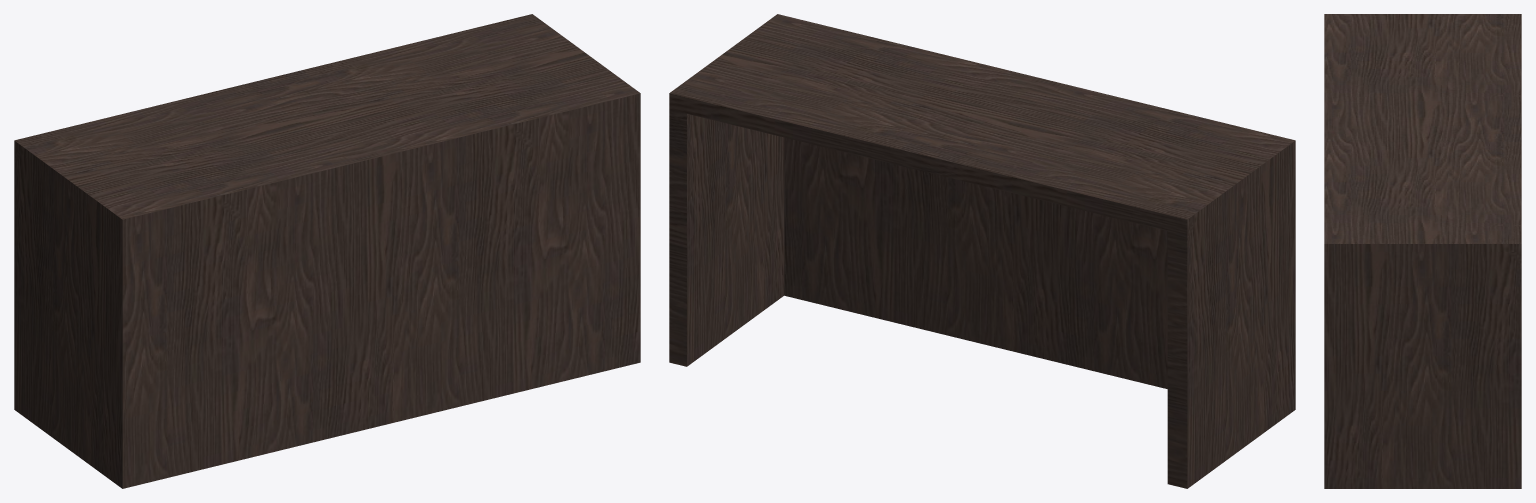
Rendered from Table_15-col.glb.
3 renders of one model, left to right at view 1: azimuth 30°, elevation 25°; view 2: azimuth 150°, elevation 25°; view 3: azimuth 270°, elevation 25°, orthographic. The views are drawn at different scales.
Parts seen in each view (by area): view 1: Table_15-col; view 2: Table_15-col; view 3: Table_15-col.
Part boxes in pixels (x1,y1,x2,y2): Table_15-col: (14,14,640,488); Table_15-col: (669,14,1295,488); Table_15-col: (1324,14,1521,488).
Bounding box in the file's own units: 1.85 × 0.9165 × 0.6684.
1 material, 1 textured.
